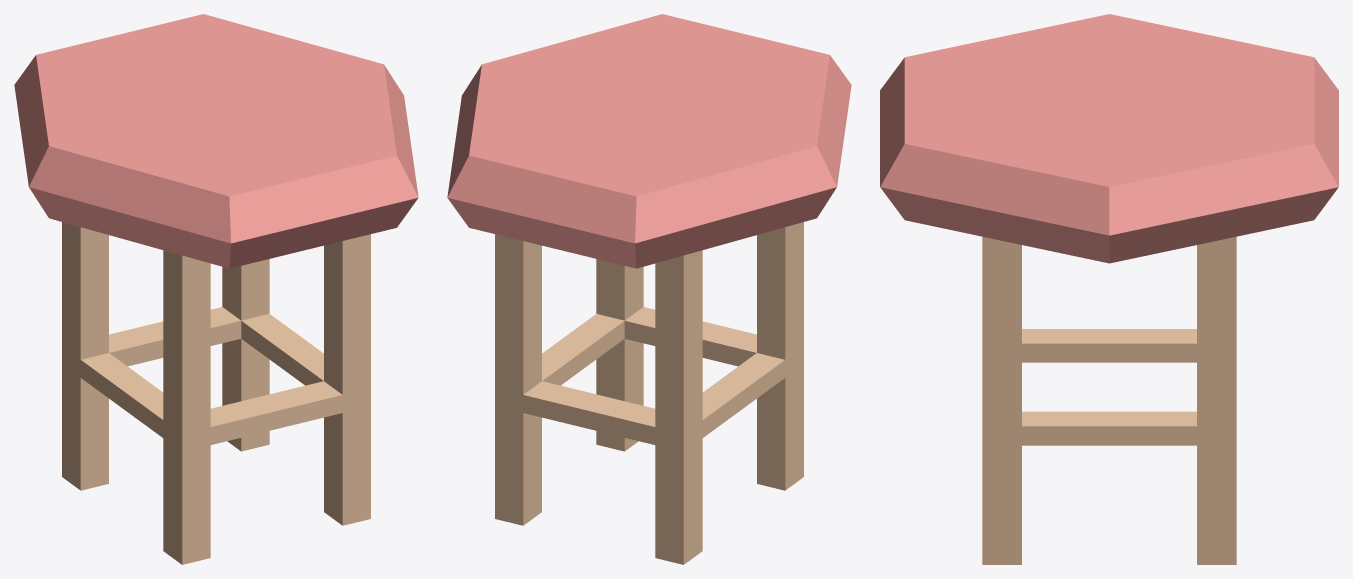
File: kn-stool-bar.glb
3 renders of one model, left to right at view 1: azimuth 30°, elevation 25°; view 2: azimuth 150°, elevation 25°; view 3: azimuth 270°, elevation 25°, orthographic. The views are drawn at different scales.
Parts seen in each view (by area): view 1: stoolBar(Clone); view 2: stoolBar(Clone); view 3: stoolBar(Clone).
Part boxes in pixels (x1,y1,x2,y2): stoolBar(Clone): [14, 14, 418, 564]; stoolBar(Clone): [447, 14, 851, 564]; stoolBar(Clone): [880, 14, 1338, 564].
Size of the model in its own units: 1 by 1 by 1.
